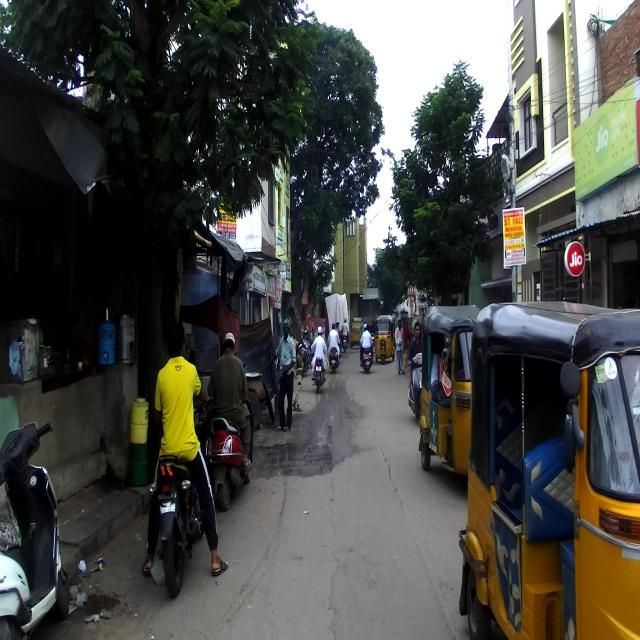autorickshaw: (457, 301, 640, 639), (418, 304, 478, 474)
motorcycle_bajaj: (147, 390, 218, 597)
scooter: (0, 423, 69, 640), (203, 385, 256, 513), (405, 346, 426, 428)
